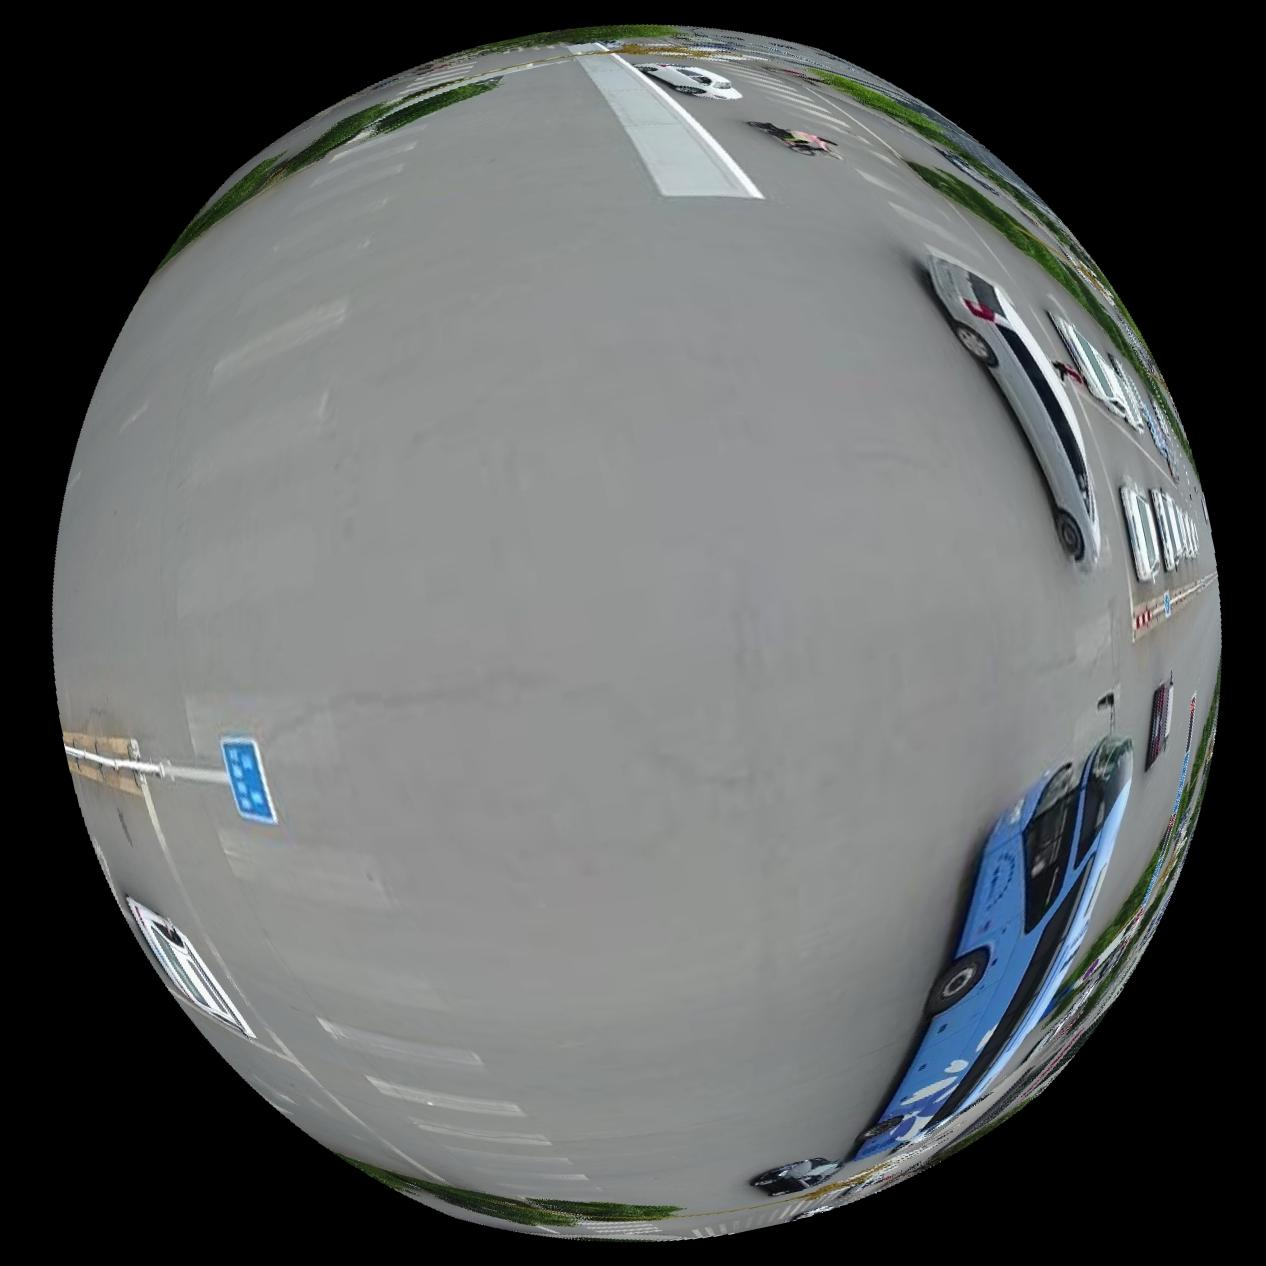cars: (853, 737, 1134, 1163), (926, 254, 1100, 570), (123, 898, 252, 1040), (1049, 311, 1128, 416), (635, 60, 741, 99), (1120, 485, 1160, 582), (750, 1159, 843, 1200), (1147, 677, 1174, 771)
trees: (161, 75, 499, 260), (354, 1165, 681, 1230)
